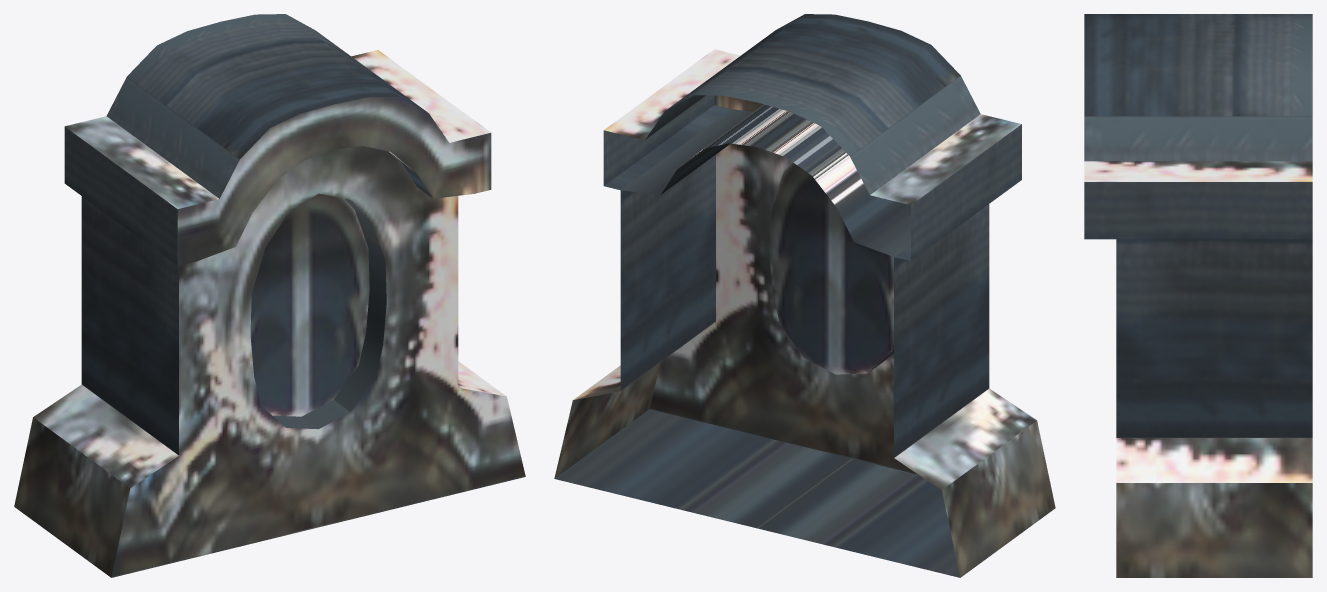
Rendered from comble_1.obj.
3 renders of one model, left to right at view 1: azimuth 30°, elevation 25°; view 2: azimuth 150°, elevation 25°; view 3: azimuth 270°, elevation 25°, orthographic. The views are drawn at different scales.
Parts seen in each view (by area): view 1: polySurface3; view 2: polySurface3; view 3: polySurface3.
Boxes of the visible parts, left/top/right/bottom form: polySurface3: left=14, top=14, right=525, bottom=577; polySurface3: left=554, top=14, right=1055, bottom=577; polySurface3: left=1084, top=14, right=1312, bottom=577.
Bounding box in the file's own units: 2.95 × 2.96 × 1.4.
Materials: 1 (1 with a texture image).
